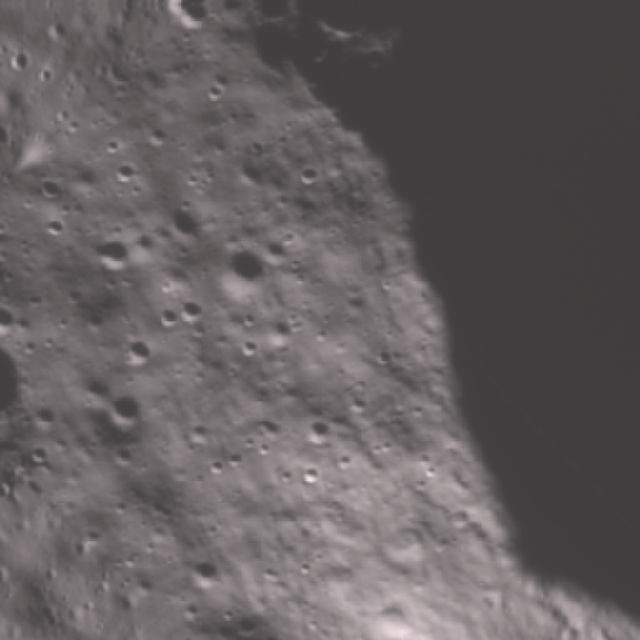crater: (0, 285, 52, 442), (197, 232, 278, 312), (294, 0, 386, 60), (72, 217, 142, 288), (157, 188, 214, 246), (361, 589, 422, 640), (93, 142, 147, 196), (167, 0, 227, 45), (112, 325, 159, 372), (180, 546, 226, 592), (103, 380, 148, 425), (0, 281, 29, 341), (245, 401, 287, 442), (103, 434, 143, 474), (29, 159, 68, 199), (193, 444, 232, 484), (148, 295, 186, 334), (192, 70, 231, 108), (226, 325, 265, 363), (263, 312, 300, 350), (290, 158, 327, 195), (126, 563, 163, 600), (19, 434, 53, 468), (100, 486, 134, 520), (367, 341, 399, 372), (34, 398, 66, 428), (298, 459, 328, 490), (174, 292, 203, 321), (174, 590, 203, 619), (232, 606, 262, 634), (81, 518, 107, 544), (272, 463, 298, 489), (330, 447, 356, 473), (252, 435, 276, 460), (236, 428, 259, 452), (223, 443, 246, 466), (216, 600, 239, 623), (420, 458, 442, 482), (0, 202, 6, 264)
